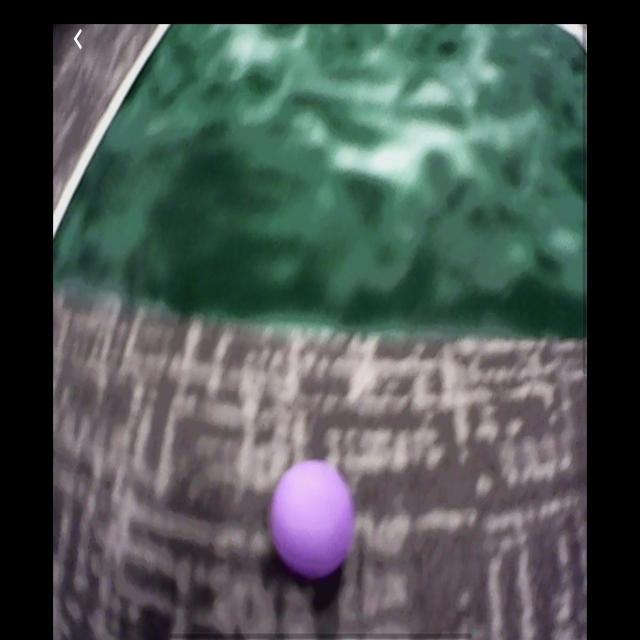ball: (273, 461, 354, 574)
